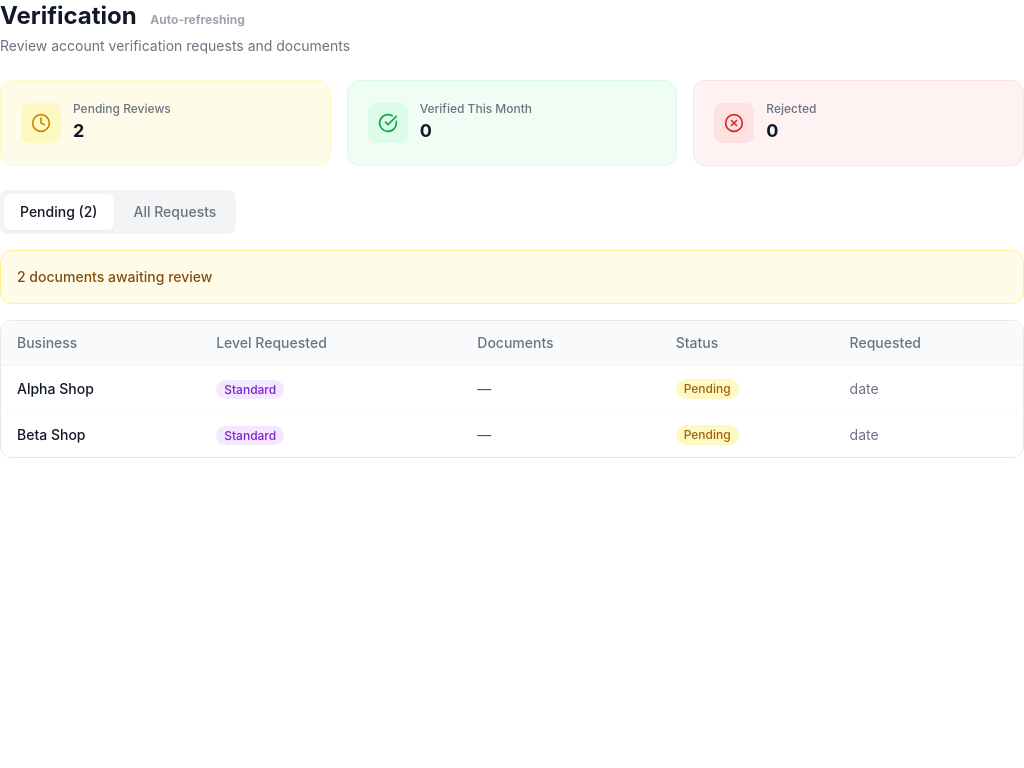
Verification actual mounted review and MFA flow › cancel before-prepare makes no mutation
Click the text "Alpha Shop".
click(55, 388)  # box [1, 366, 200, 412]
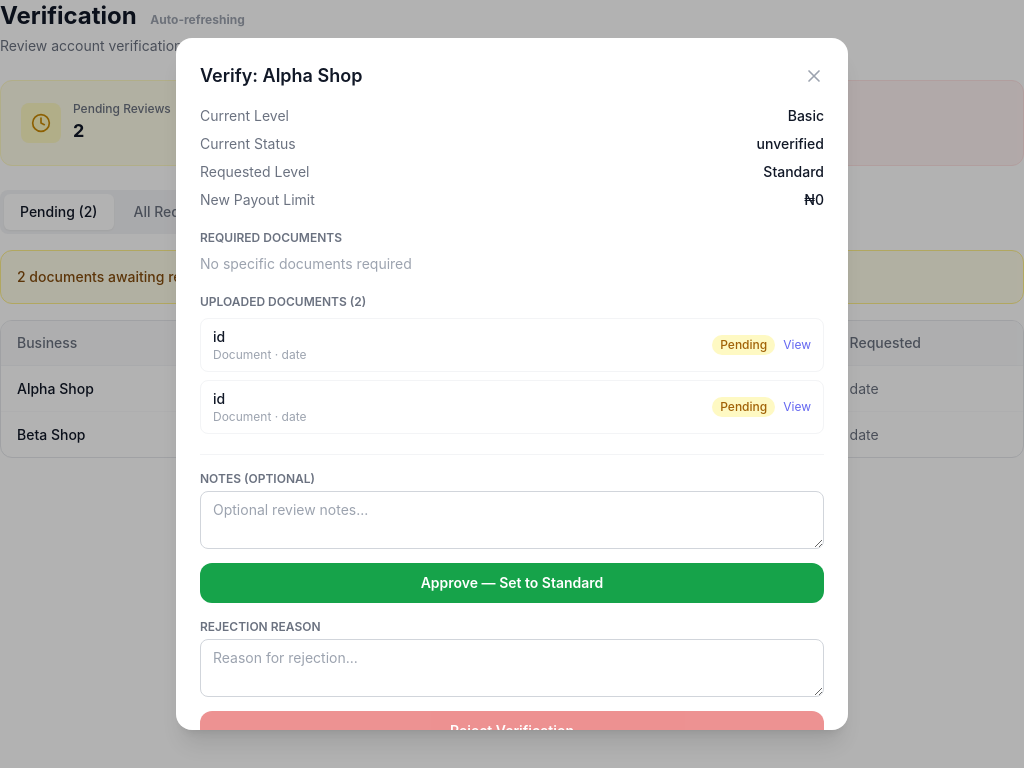
Type "  Notes  " into the text box labelled "review notes".
click(512, 520); type("  Notes  ")  # box [200, 491, 824, 549]
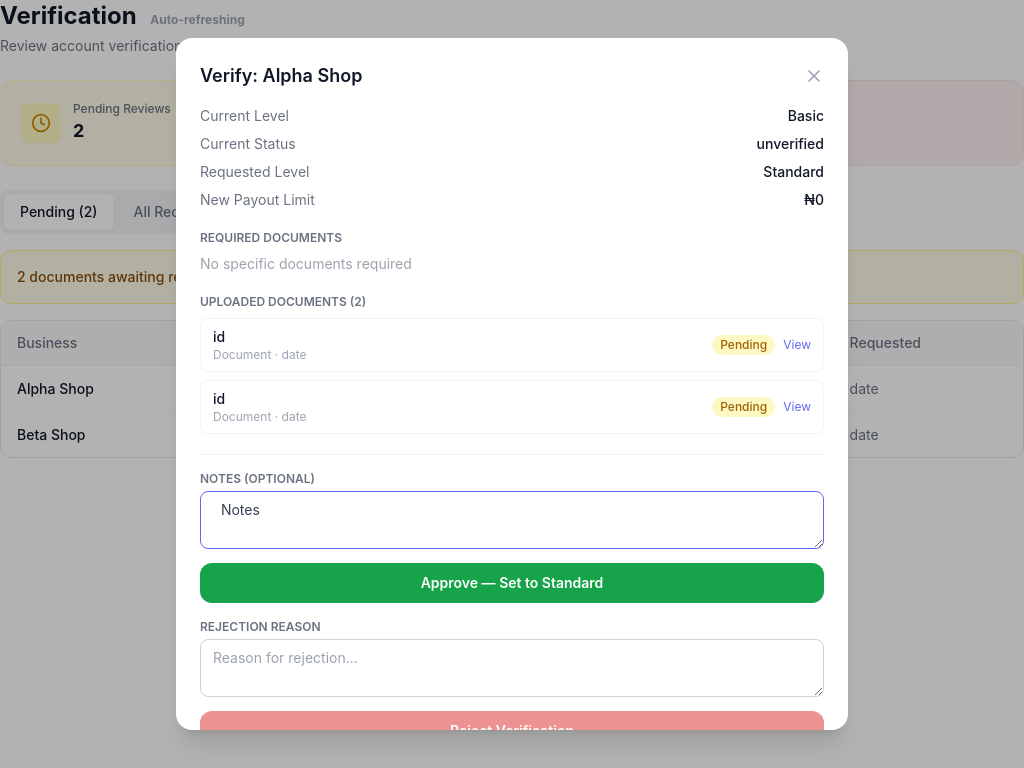
Click the button "Approve — Set to Standard".
click(512, 583)  # box [200, 563, 824, 603]
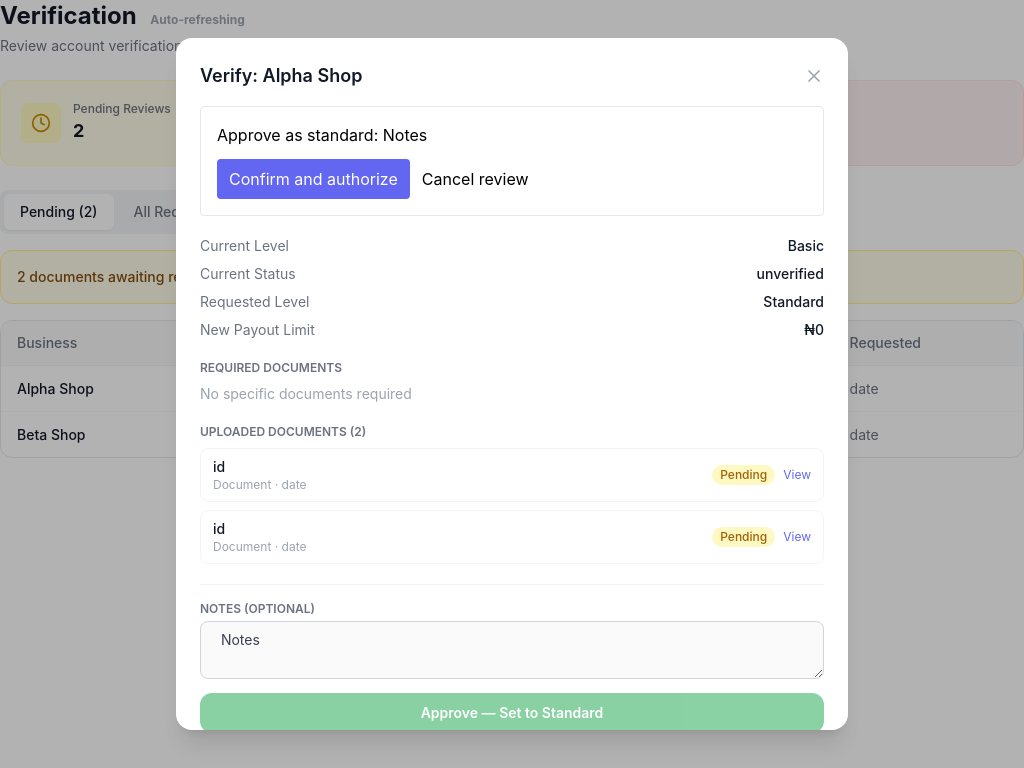
Click the button "Cancel review".
click(475, 179)  # box [422, 167, 529, 191]
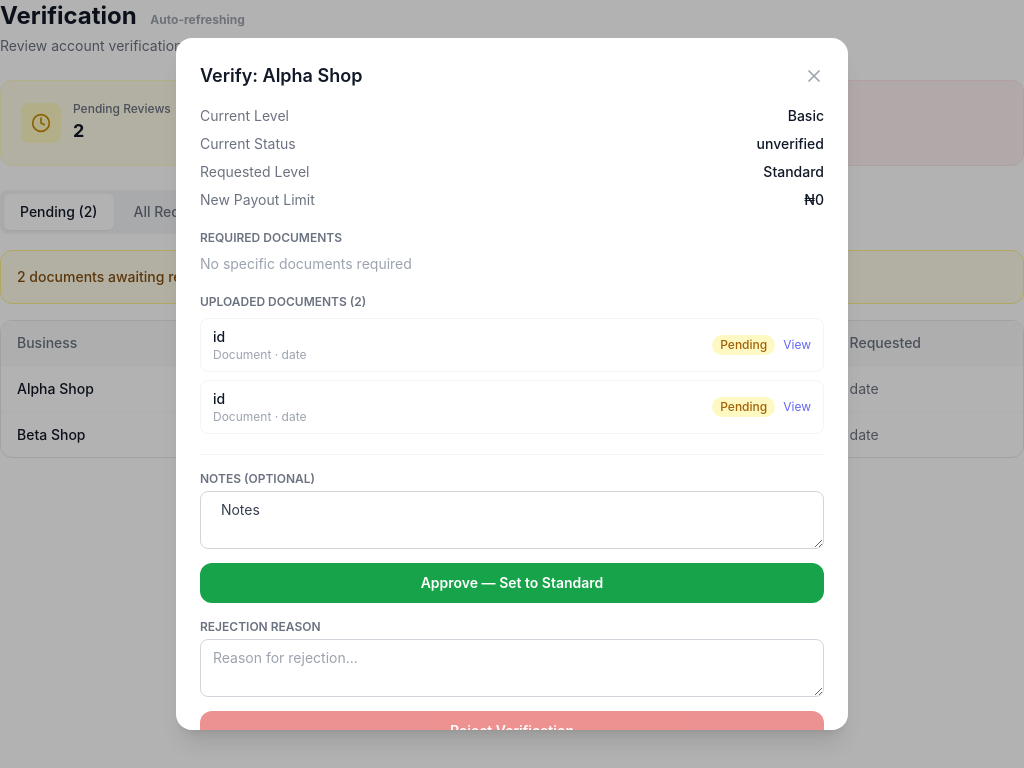
Now the text box named "review notes" is enabled, box [200, 491, 824, 549]
